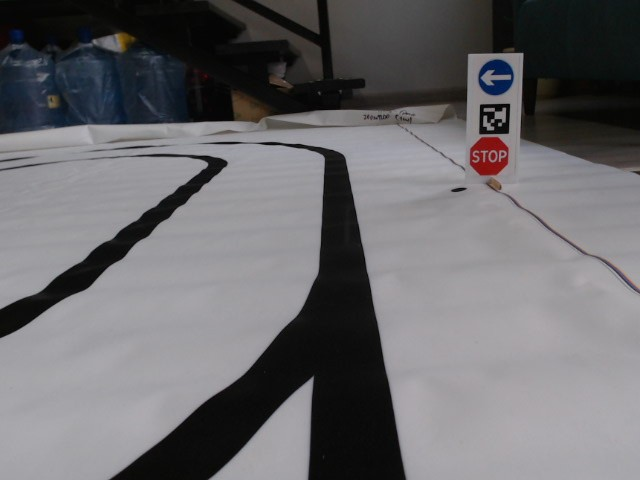Stop: (468, 135, 509, 176)
